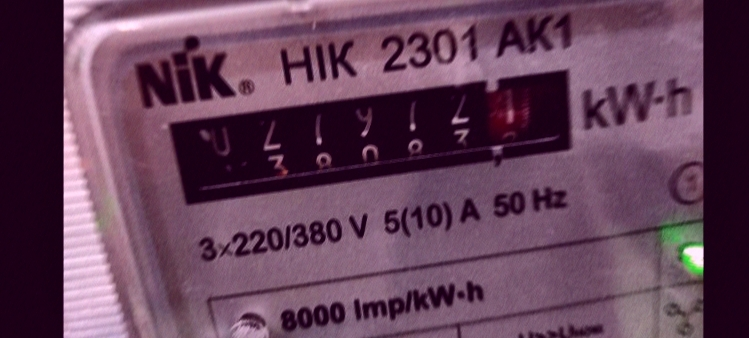0: (206, 119, 234, 156)
1: (499, 83, 521, 126)
2: (255, 111, 284, 150), (445, 87, 473, 124)
7: (398, 92, 424, 133), (305, 108, 328, 145)
9: (352, 101, 378, 136)
screen: (152, 58, 604, 213)
